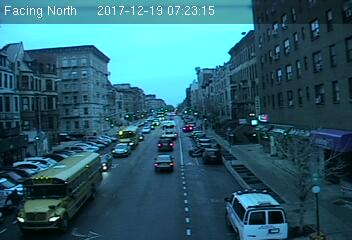car: (152, 155, 174, 172), (110, 142, 131, 158), (201, 147, 222, 163), (155, 137, 174, 152)
police: (223, 188, 289, 240)
truck: (15, 150, 103, 233)
